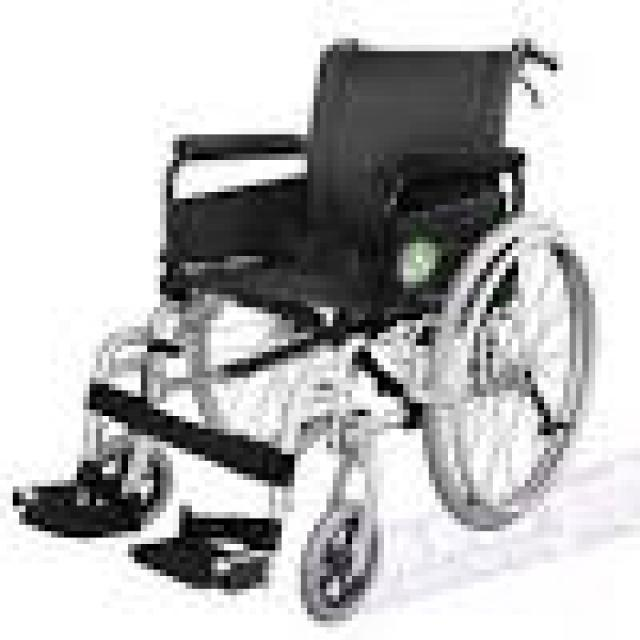wheelchair: (13, 19, 608, 634)
